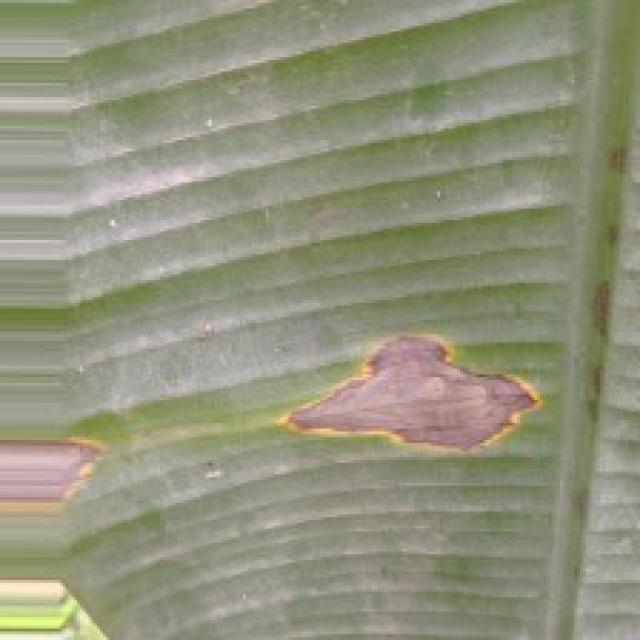Bacterial_spot: (271, 328, 561, 477), (0, 426, 123, 532)
